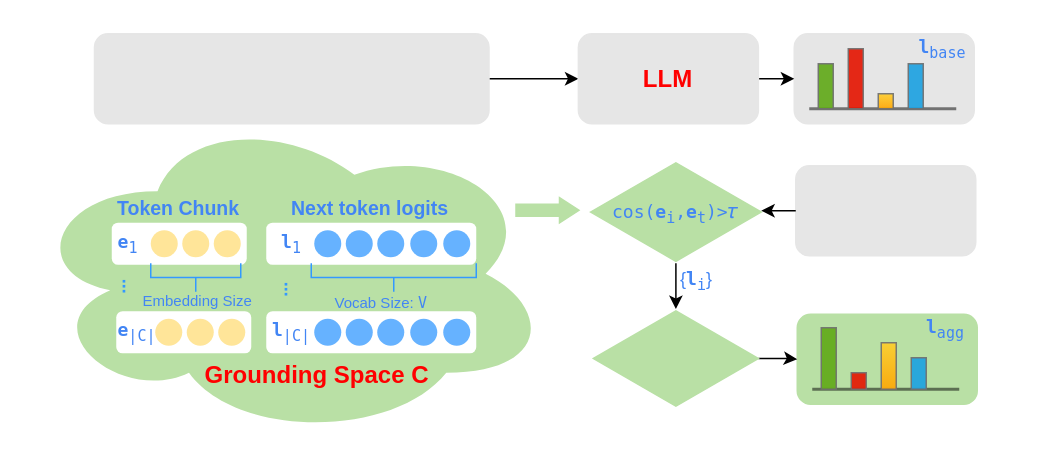
The diagram is 1059 pixels wide and 464 high, and some of its shapes have lost their labels. The shapes that lost their labels are listed below. From the top down, each one's centre as x and y in pixels, then its label:
At point 291,78: "Q: What cryptid was shown by scientists to be completely real?".
At point 885,210: "Current chunk e t : [...]? A: The".
At point 675,358: "weighted mean".
